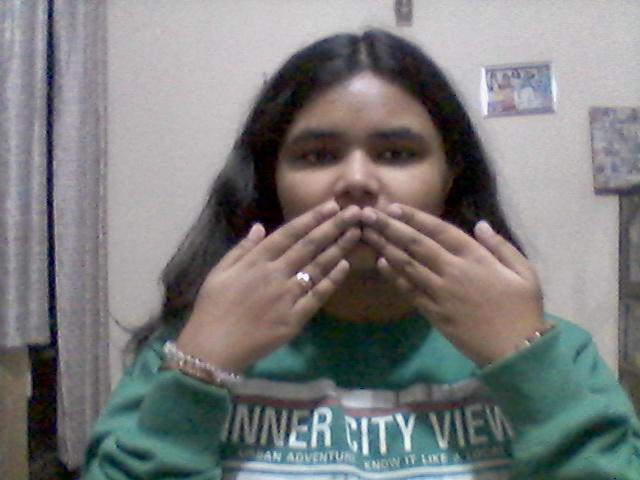thank you: (173, 202, 556, 380)
